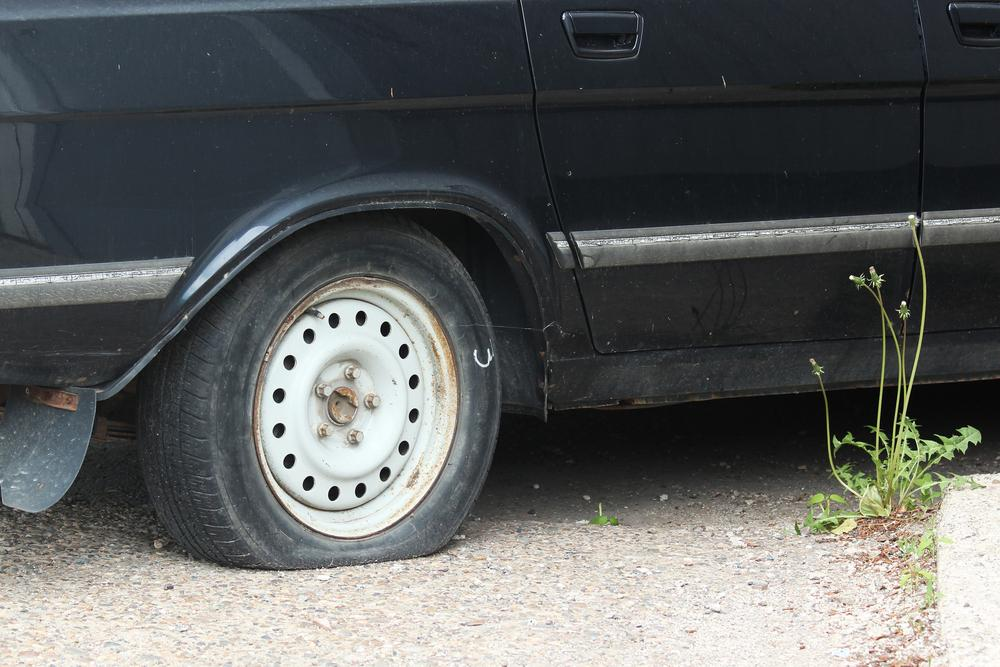tire flat: (128, 214, 504, 571)
